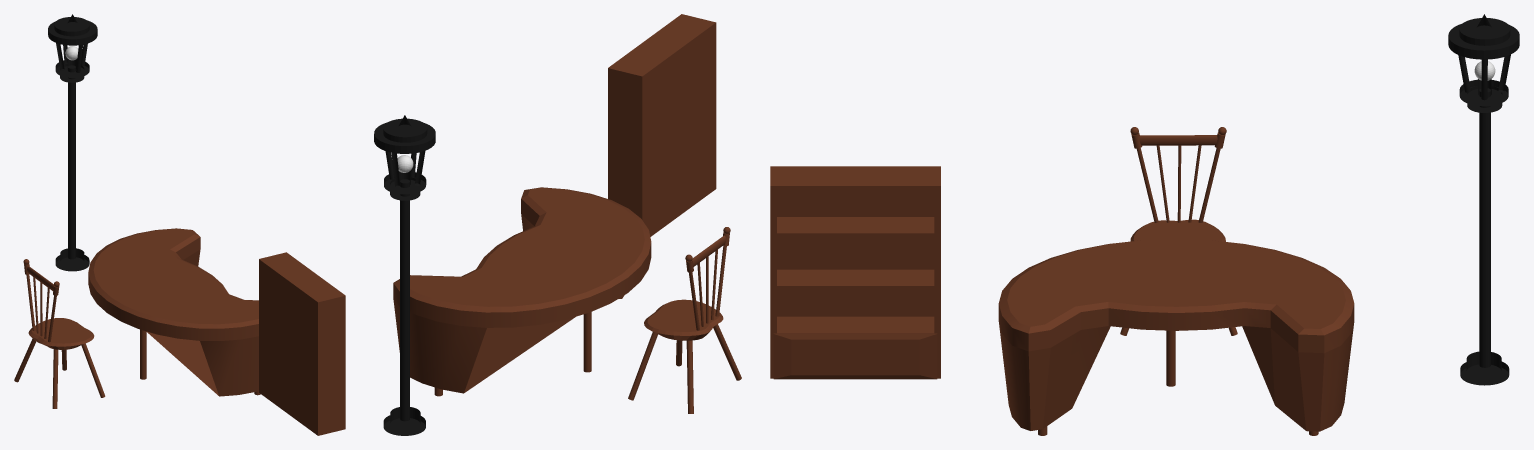
File: Muebles.fbx
3 renders of one model, left to right at view 1: azimuth 30°, elevation 25°; view 2: azimuth 150°, elevation 25°; view 3: azimuth 270°, elevation 25°, orthographic. The views are drawn at different scales.
Parts seen in each view (by area): view 1: Cylinder, Cube.004, Cylinder.005, Cylinder.001, Cylinder.003; view 2: Cylinder, Cube.004, Cylinder.005, Cylinder.001, Cylinder.003; view 3: Cylinder, Cube.004, Cylinder.005, Cylinder.001.
Boxes of the visible parts, x1,y1,x2,y2 form: Cylinder: [88, 228, 258, 396]; Cube.004: [259, 252, 345, 435]; Cylinder.005: [48, 14, 97, 271]; Cylinder.001: [14, 259, 105, 408]; Cylinder.003: [140, 329, 260, 395]; Cylinder: [393, 187, 651, 393]; Cube.004: [608, 14, 716, 236]; Cylinder.005: [374, 115, 435, 435]; Cylinder.001: [628, 227, 741, 413]; Cylinder.003: [434, 312, 591, 396]; Cylinder: [998, 239, 1354, 431]; Cube.004: [770, 166, 940, 379]; Cylinder.005: [1448, 14, 1519, 385]; Cylinder.001: [1120, 127, 1237, 335].
Bounding box in the file's own units: 919 × 1155 × 1973.
